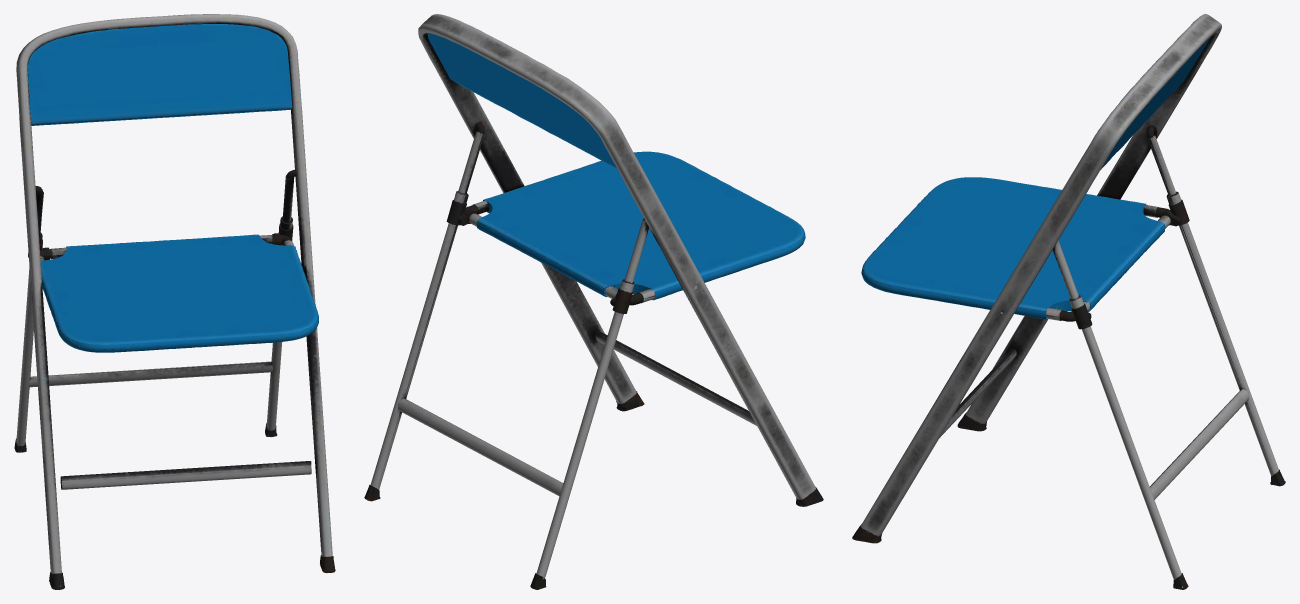
File: chair-transformed.glb
3 views of the same model, side by side, from view 1: azimuth 30°, elevation 25°; view 2: azimuth 150°, elevation 25°; view 3: azimuth 270°, elevation 25° (orthographic). The views are drawn at different scales.
Visible parts, largest first — view 1: Object_2; view 2: Object_2; view 3: Object_2.
Boxes of the visible parts, x1,y1,x2,y2 form: Object_2: [14, 14, 335, 589]; Object_2: [364, 14, 823, 589]; Object_2: [852, 14, 1285, 589].
Bounding box in the file's own units: 676 × 888 × 740.
1 material, 1 textured.
